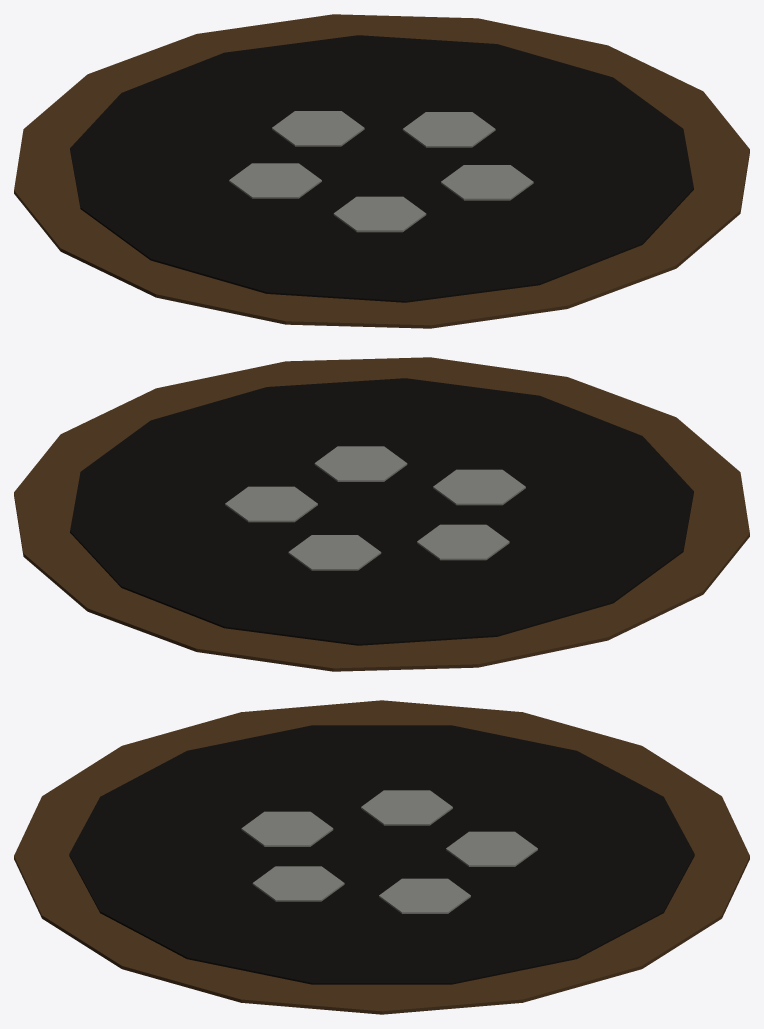
File: scorched ground.glb
3 renders of one model, top to bottom at view 1: azimuth 30°, elevation 25°; view 2: azimuth 150°, elevation 25°; view 3: azimuth 270°, elevation 25°, orthographic.
Visible parts, largest first — view 1: scorched ground; view 2: scorched ground; view 3: scorched ground.
Boxes of the visible parts, bbox=[...] form: scorched ground: bbox=[14, 14, 749, 328]; scorched ground: bbox=[14, 357, 749, 671]; scorched ground: bbox=[14, 700, 749, 1014].
Size of the model in its own units: 4 by 0.04 by 4.
